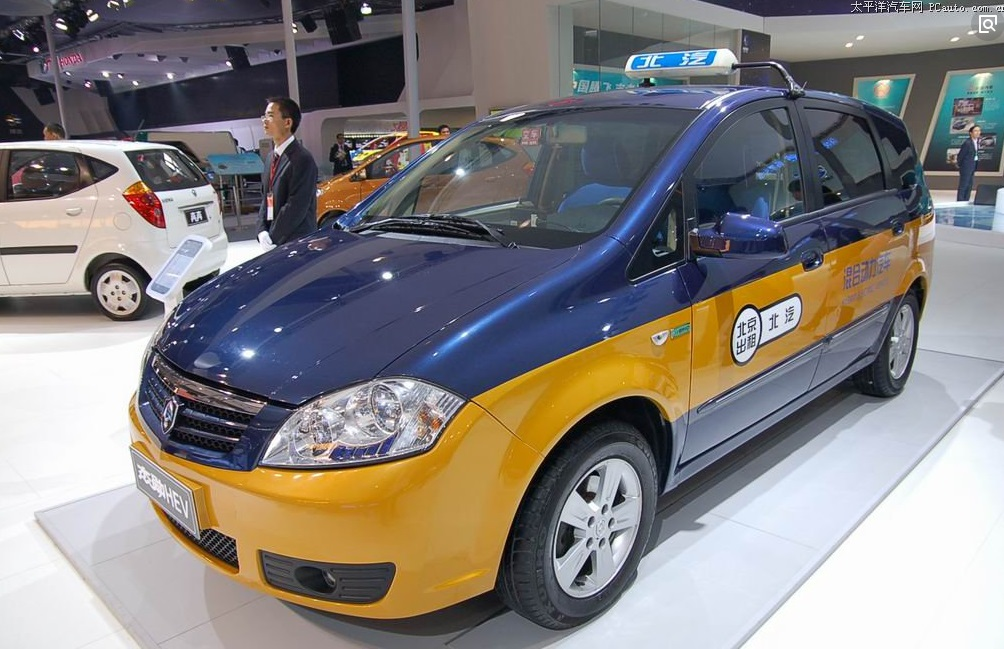taxi: (126, 48, 939, 627)
